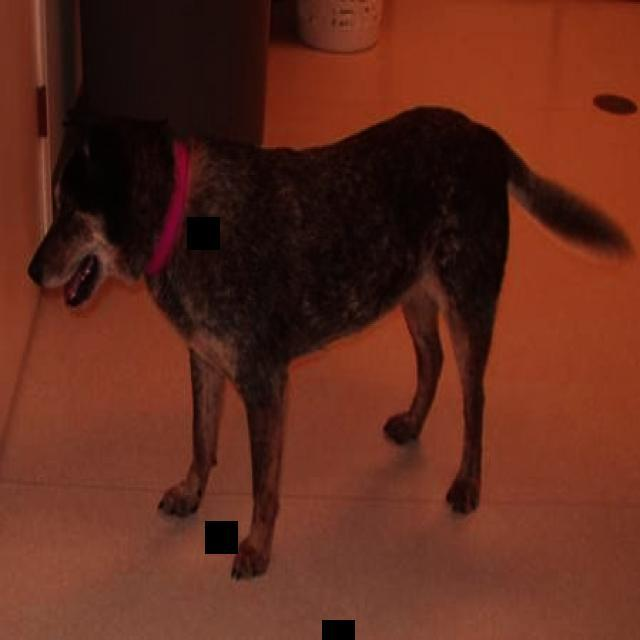adult_dog: (25, 97, 640, 584)
